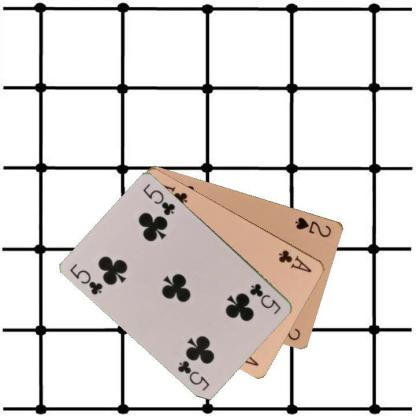2s: (292, 214, 333, 238)
5c: (67, 260, 105, 296), (247, 281, 282, 315)
Ac: (276, 247, 313, 274)
